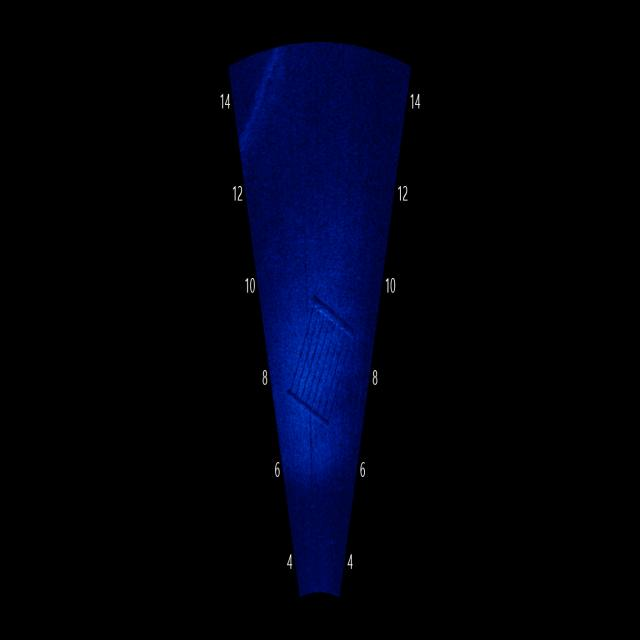square: (279, 286, 359, 442)
